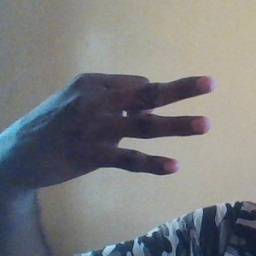K: (18, 73, 228, 185)
